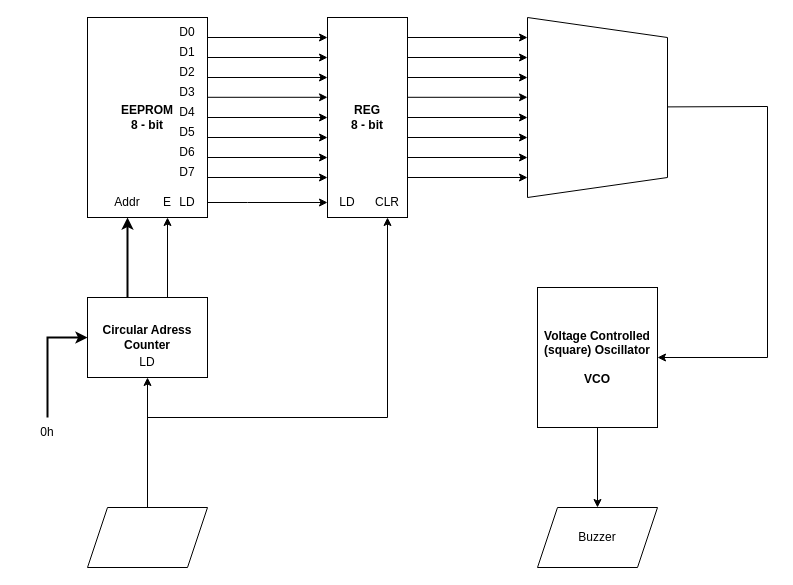
The diagram is 793 pixels wide and 585 high, and some of its shapes have lost their labels. Each missing label, with the centre of its shape:
(ladder ?? ) DAC 8 - bit: point 597,107
SWITCH: point 147,537
